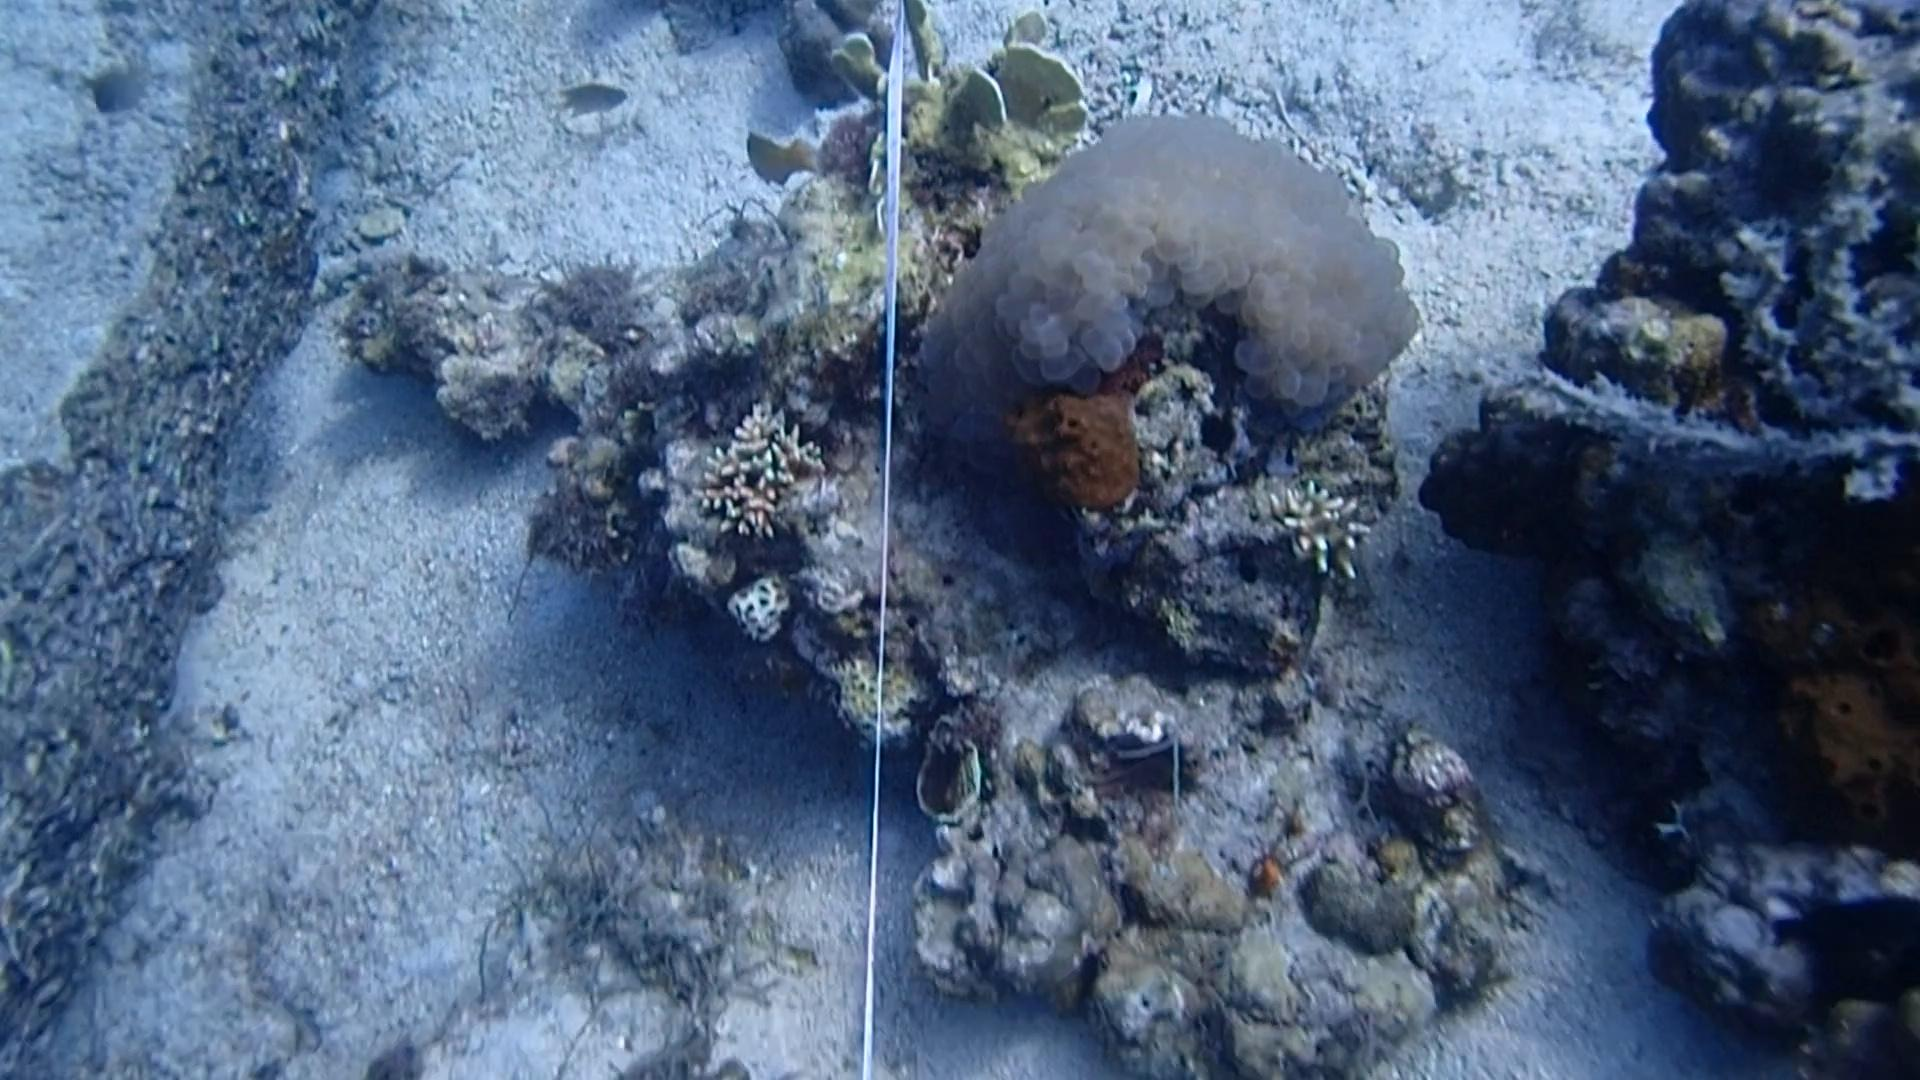Light Fish: (80, 47, 164, 129), (549, 73, 645, 137)
Yellow-Blue Fish: (732, 117, 822, 194)
